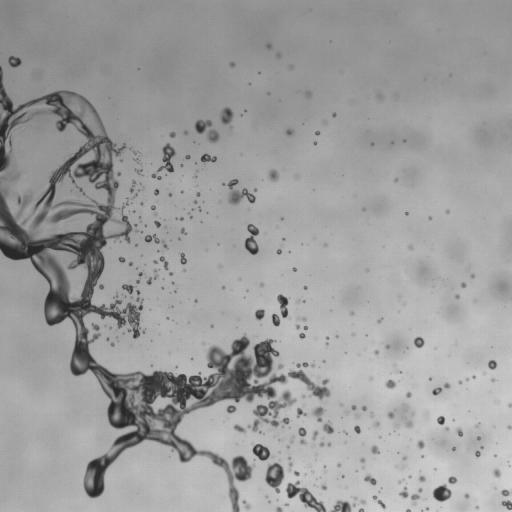droplet: (227, 179, 255, 204), (265, 462, 284, 493), (194, 120, 219, 142), (399, 486, 422, 505), (432, 484, 451, 502), (252, 444, 272, 460), (220, 107, 233, 124), (312, 406, 324, 422), (154, 256, 168, 269), (200, 153, 216, 162), (8, 56, 21, 67), (364, 474, 376, 485), (122, 284, 135, 294), (268, 169, 278, 181), (414, 336, 424, 348), (323, 421, 333, 433), (254, 309, 264, 320), (385, 379, 396, 388), (272, 314, 280, 326), (296, 408, 306, 417), (501, 500, 511, 509), (404, 419, 413, 428), (226, 405, 236, 413), (488, 360, 496, 369), (432, 387, 441, 395), (371, 445, 379, 454), (242, 500, 250, 509), (501, 489, 511, 496), (180, 253, 186, 264), (455, 427, 462, 436), (493, 468, 500, 477), (448, 476, 457, 483), (437, 416, 444, 424), (417, 440, 424, 448), (312, 431, 318, 440), (354, 425, 360, 433), (286, 129, 293, 135), (154, 221, 160, 227), (388, 412, 394, 418), (373, 421, 379, 427), (293, 470, 299, 476), (419, 476, 425, 482), (305, 91, 311, 96), (169, 132, 175, 137), (154, 189, 159, 195), (181, 228, 186, 234), (119, 257, 125, 262), (299, 333, 305, 338), (277, 364, 283, 369), (444, 383, 450, 388), (475, 450, 480, 456), (132, 193, 137, 198), (461, 282, 466, 287), (377, 318, 382, 323), (374, 350, 379, 355), (406, 392, 411, 397), (321, 484, 326, 489), (135, 169, 141, 173), (276, 507, 282, 511), (230, 62, 234, 67), (185, 155, 190, 159), (277, 249, 281, 254), (139, 272, 143, 277), (99, 284, 103, 289), (351, 405, 356, 409), (362, 406, 366, 411), (319, 442, 324, 446), (360, 458, 365, 462), (464, 494, 469, 498), (360, 500, 365, 504), (267, 44, 271, 48), (315, 131, 319, 135), (196, 192, 200, 196), (455, 294, 459, 298), (302, 317, 306, 321), (399, 479, 403, 483), (178, 217, 183, 220), (290, 437, 293, 442), (133, 151, 137, 154), (135, 158, 138, 162), (293, 267, 296, 271), (296, 324, 299, 328), (303, 326, 307, 329), (110, 343, 114, 346), (397, 370, 401, 373), (508, 403, 511, 407), (395, 424, 398, 428), (508, 425, 511, 429), (445, 427, 449, 430), (402, 457, 406, 460), (406, 509, 411, 511), (277, 54, 280, 57), (290, 65, 293, 68), (378, 94, 381, 97), (332, 113, 335, 116), (184, 131, 187, 134), (117, 172, 120, 175), (394, 178, 397, 181), (129, 262, 132, 265), (471, 274, 474, 277), (304, 286, 307, 289), (386, 345, 389, 348), (311, 364, 314, 367), (458, 381, 461, 384), (302, 394, 305, 397), (370, 413, 373, 416), (356, 414, 359, 417), (477, 436, 480, 439), (452, 447, 455, 450), (337, 463, 340, 466), (353, 496, 356, 499), (285, 503, 288, 506), (408, 246, 412, 248), (350, 312, 354, 314), (327, 443, 331, 445), (313, 142, 316, 144), (254, 188, 256, 191), (169, 193, 171, 196), (446, 210, 448, 213), (170, 272, 172, 275), (137, 279, 139, 282), (260, 283, 263, 285), (137, 291, 139, 294), (115, 294, 118, 296), (326, 336, 328, 339), (326, 342, 328, 345), (472, 376, 475, 378), (491, 379, 494, 381), (476, 423, 479, 425), (344, 431, 346, 434), (426, 507, 428, 510), (181, 164, 183, 166), (199, 208, 201, 210), (189, 214, 191, 216), (429, 217, 431, 219), (222, 286, 224, 288), (195, 299, 197, 301), (106, 338, 108, 340), (203, 342, 205, 344), (175, 366, 177, 368), (346, 411, 348, 413), (286, 446, 288, 448), (288, 457, 290, 459), (342, 475, 344, 477)
ligament: (0, 66, 328, 511), (285, 481, 355, 511), (151, 143, 176, 179), (244, 224, 258, 254), (145, 234, 168, 248), (277, 294, 289, 318), (372, 495, 385, 509), (147, 269, 158, 284), (298, 427, 306, 444), (233, 424, 246, 433), (129, 180, 135, 192), (151, 205, 156, 215), (288, 461, 292, 470), (358, 508, 364, 511)
